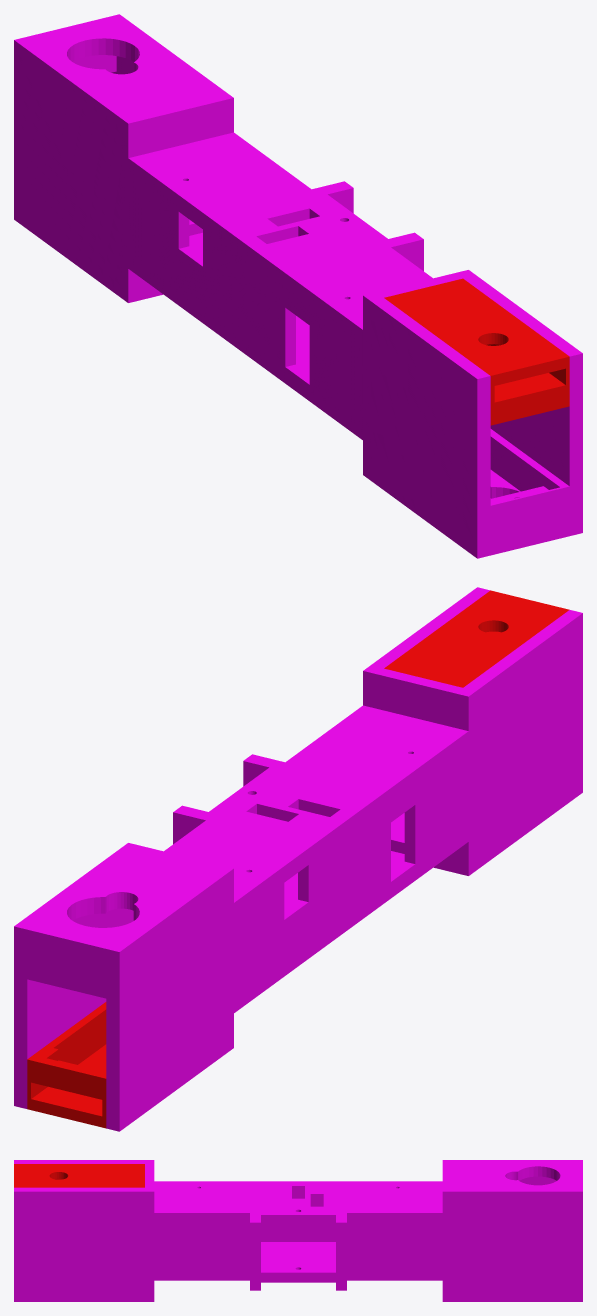
The model's file is combined.glb.
3 renders of one model, top to bottom at view 1: azimuth 30°, elevation 25°; view 2: azimuth 150°, elevation 25°; view 3: azimuth 270°, elevation 25°, orthographic. The views are drawn at different scales.
Parts seen in each view (by area): view 1: bracket, lid, insert.001; view 2: bracket, lid, insert.001, insert; view 3: bracket, insert.001, lid.
Part boxes in pixels (x1,y1,x2,y2): bracket: (14, 14, 582, 558); lid: (134, 171, 356, 427); insert.001: (384, 278, 569, 425); bracket: (14, 587, 582, 1131); lid: (240, 744, 462, 1000); insert.001: (384, 590, 569, 687); insert: (27, 1002, 106, 1128); bracket: (14, 1160, 582, 1301); insert.001: (14, 1164, 144, 1187); lid: (261, 1181, 335, 1241).
Size of the model in its own units: 0.2625 by 0.325 by 1.52.
